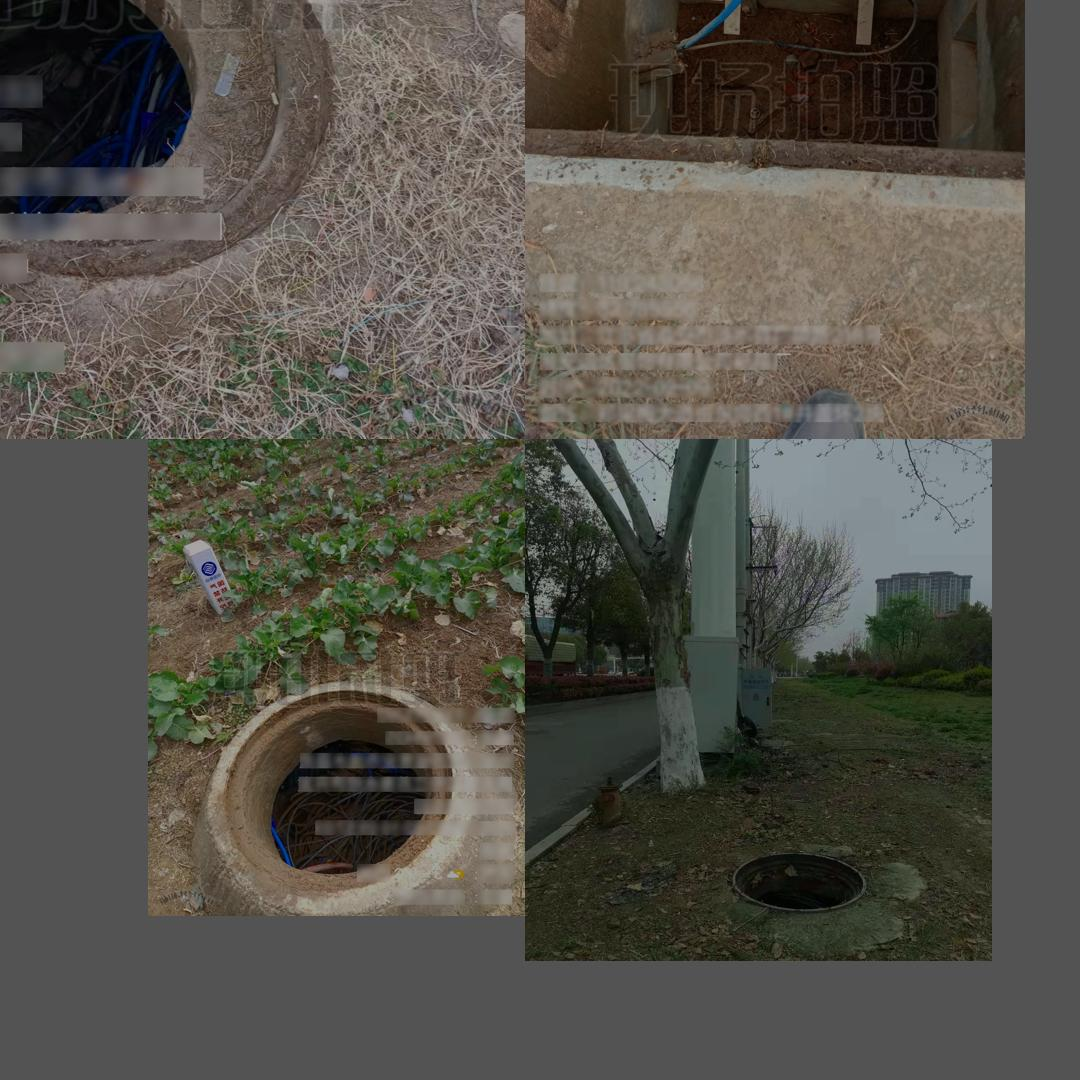lose: (0, 0, 381, 276), (527, 0, 1025, 180), (202, 684, 472, 916), (732, 851, 867, 912)
